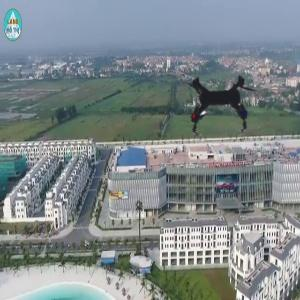drone: (153, 31, 294, 172)
